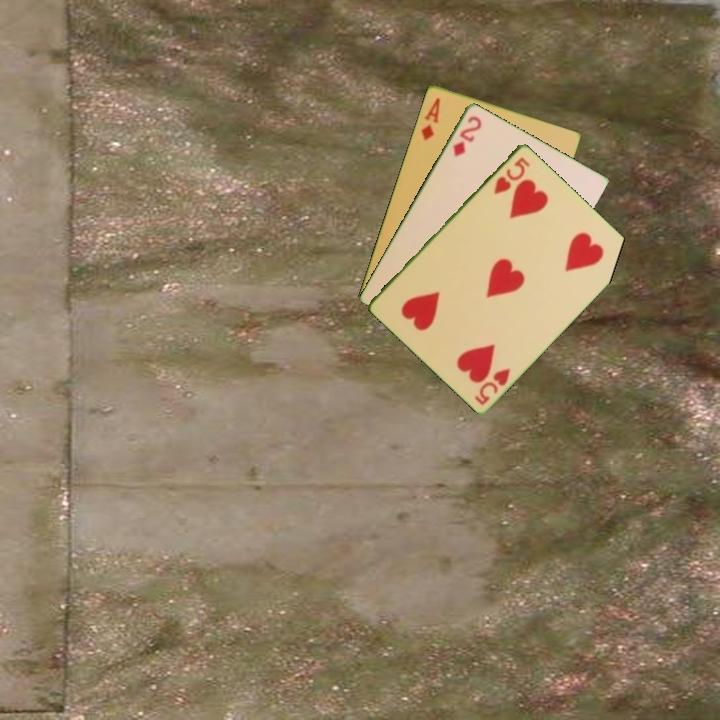2d: (449, 112, 485, 159)
5h: (490, 153, 533, 197), (471, 364, 513, 408)
Ad: (417, 94, 443, 143)
